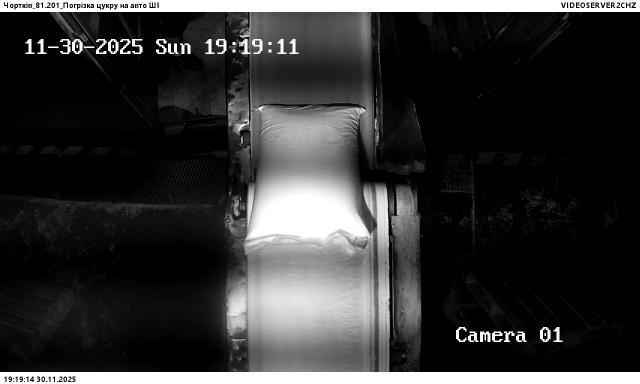bag: (245, 105, 371, 254)
